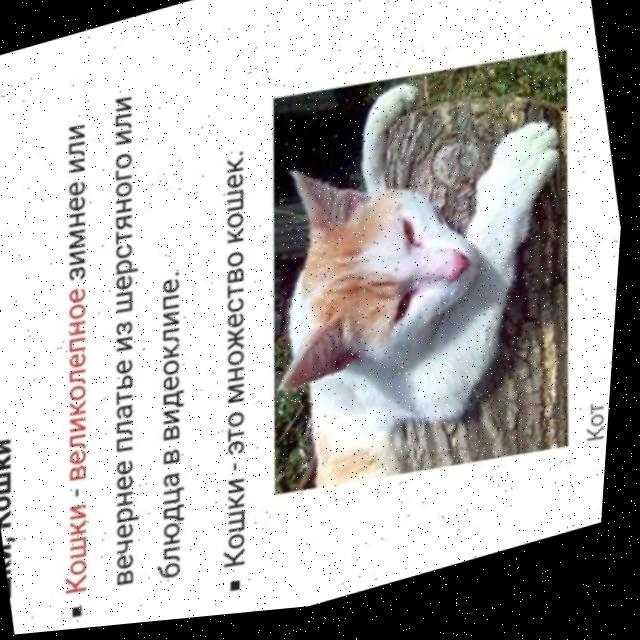Cats: (204, 29, 633, 541)
